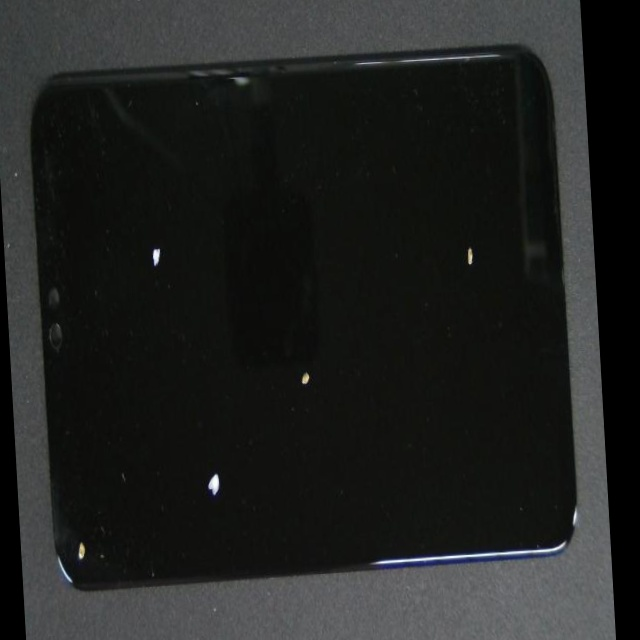stain: (137, 114, 444, 540), (226, 63, 600, 372), (93, 185, 298, 640), (78, 59, 234, 336), (62, 268, 141, 640)
